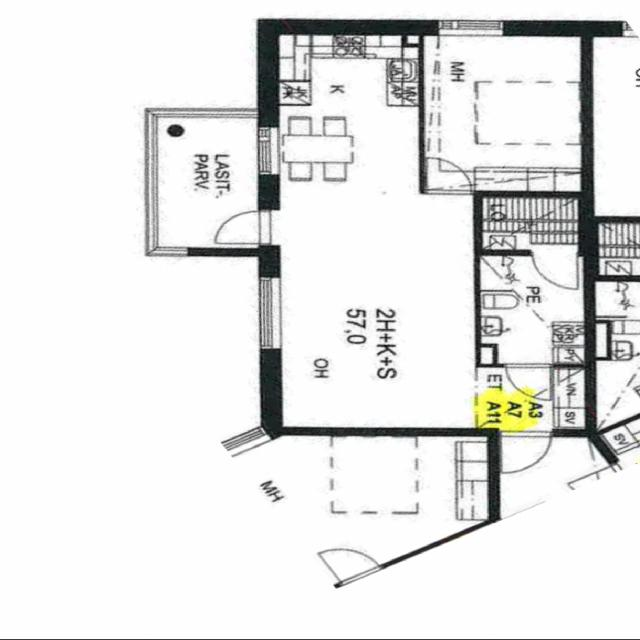door: (499, 429, 551, 474), (212, 210, 278, 244), (532, 249, 578, 288), (426, 158, 471, 195), (506, 363, 550, 399)
